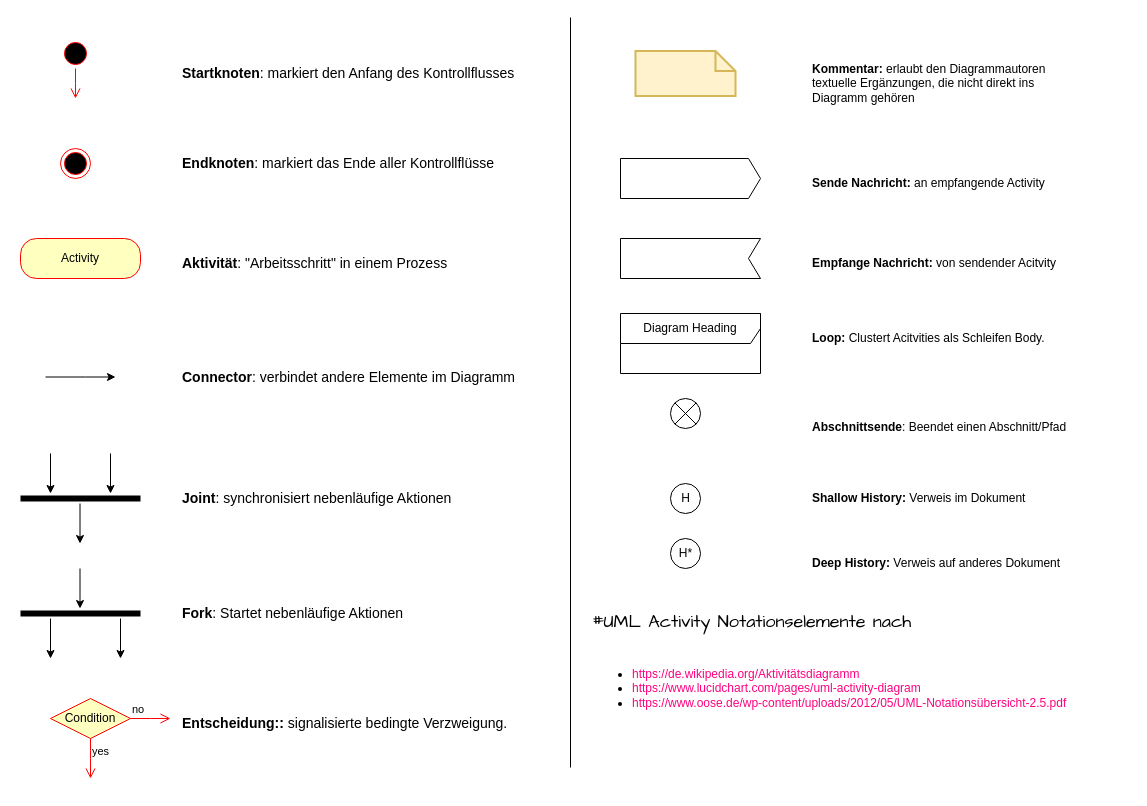
This 1147x806 diagram has some shape labels left out. The shapes that lost their labels are listed below. From the top down, each one's box as (x1, y1, x2, y2) in pixels, then its label:
(634, 50, 736, 96): Note
(620, 158, 760, 198): TurnOn
(620, 238, 760, 278): Req(Id)
